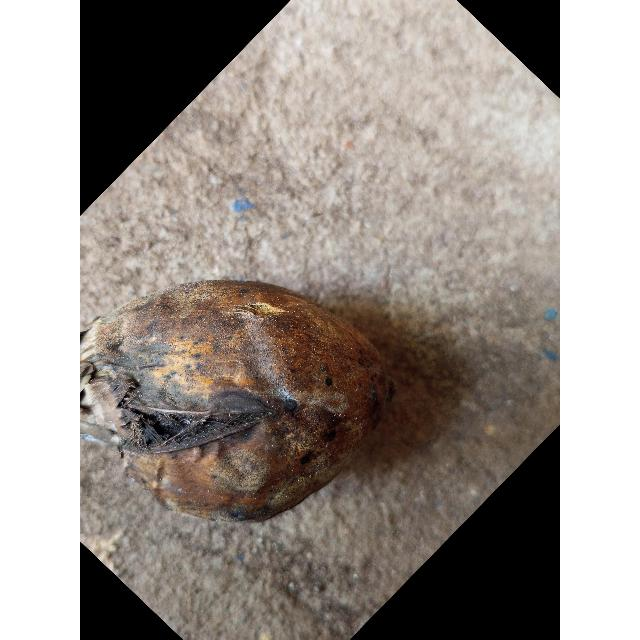damaged: (80, 281, 391, 521)
